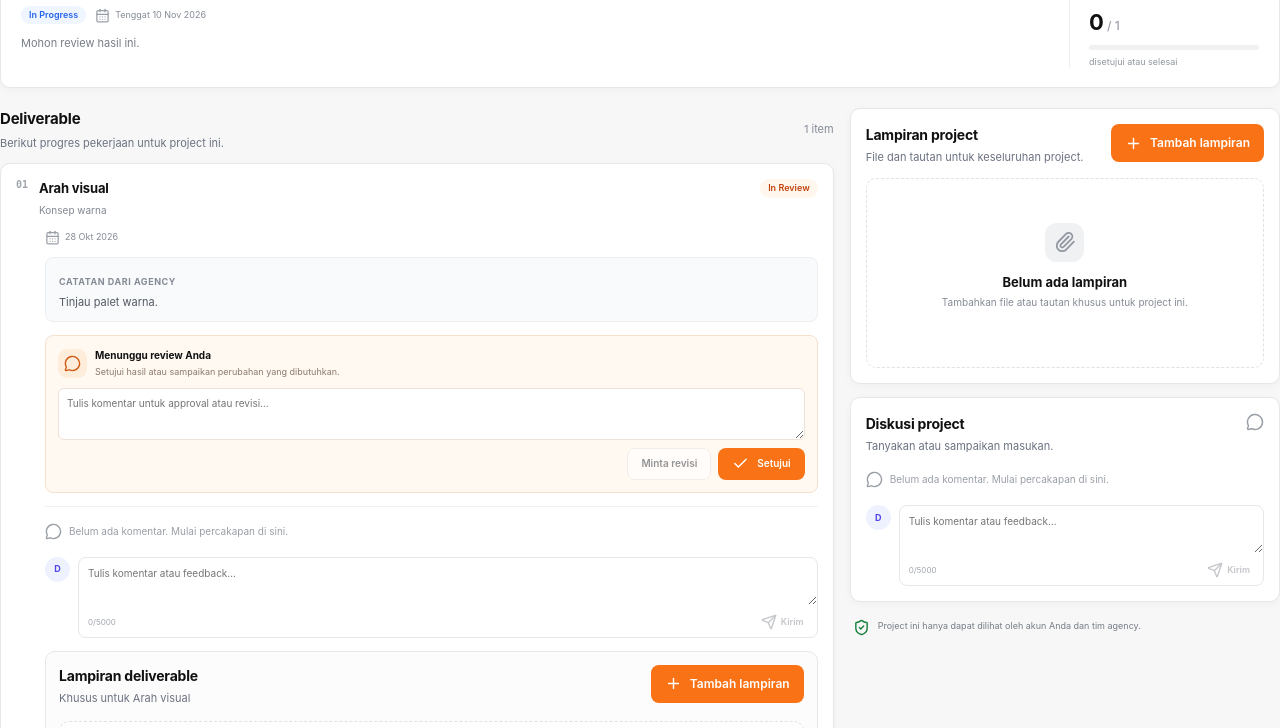
Test: portal UI › requires a revision comment and submits the client review action
Check: the text "Menunggu review Anda" is shown, box [95,349,211,361]
Check: the heading "Lampiran project" is shown, box [866,126,978,143]
Click the button "Tambah lampiran" in the row of "Lampiran deliverable".
click(727, 684)  # box [651,664,804,702]
(page scrolled)
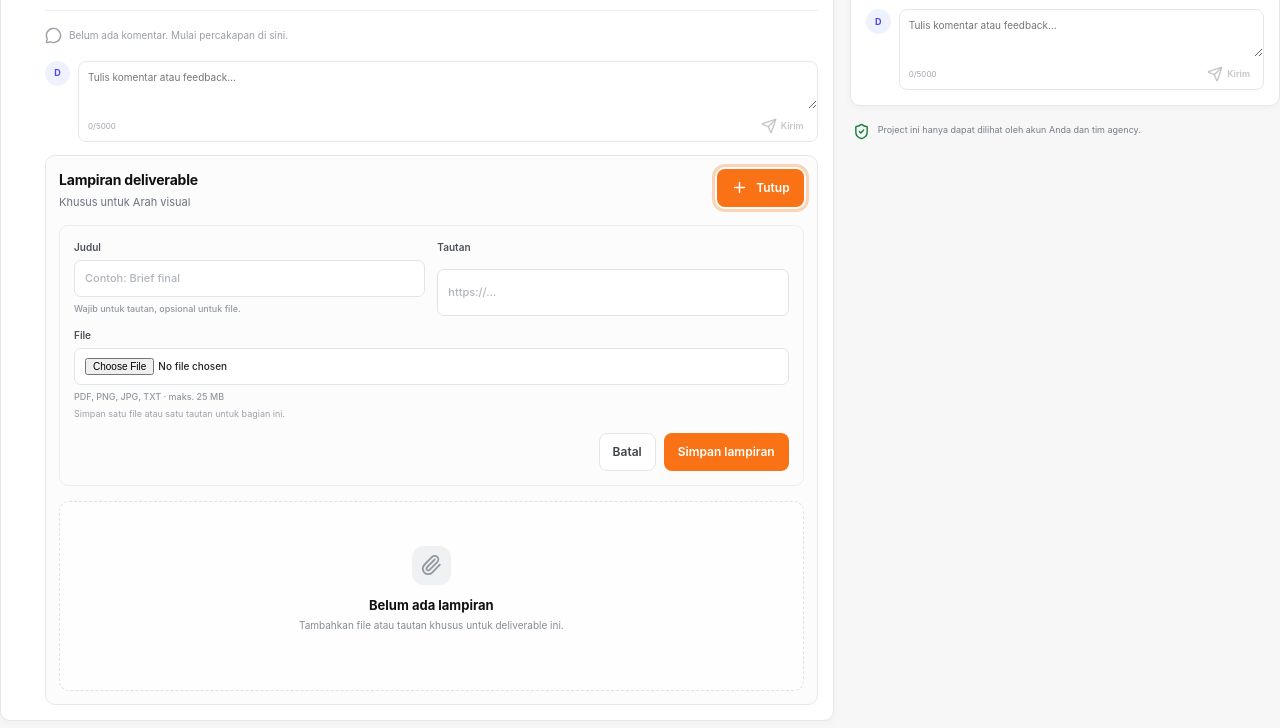
Type "Deliverable source" into the field with placeholder "Contoh: Brief final".
click(250, 278); type("Deliverable source")  # box [74,260,425,297]
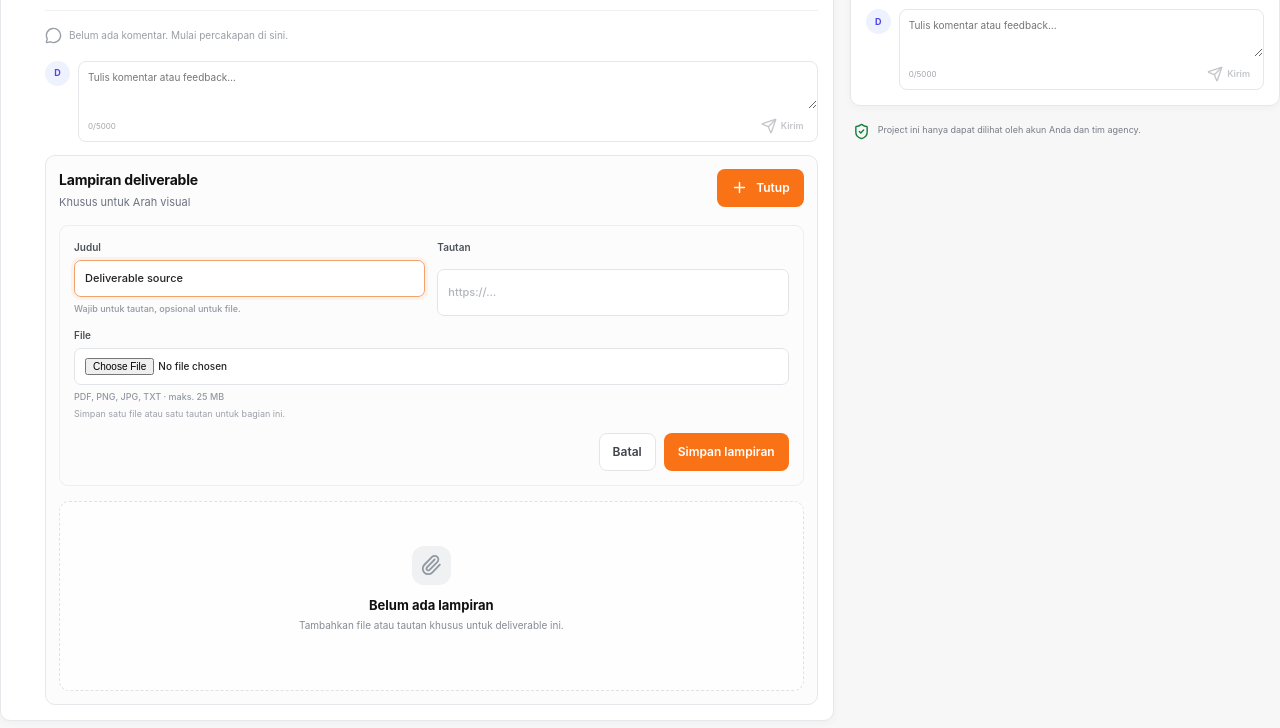
Type "https://example.com/deliverable" into the field with placeholder "https://…".
click(613, 292); type("https://example.com/deliverable")  # box [437,269,789,316]
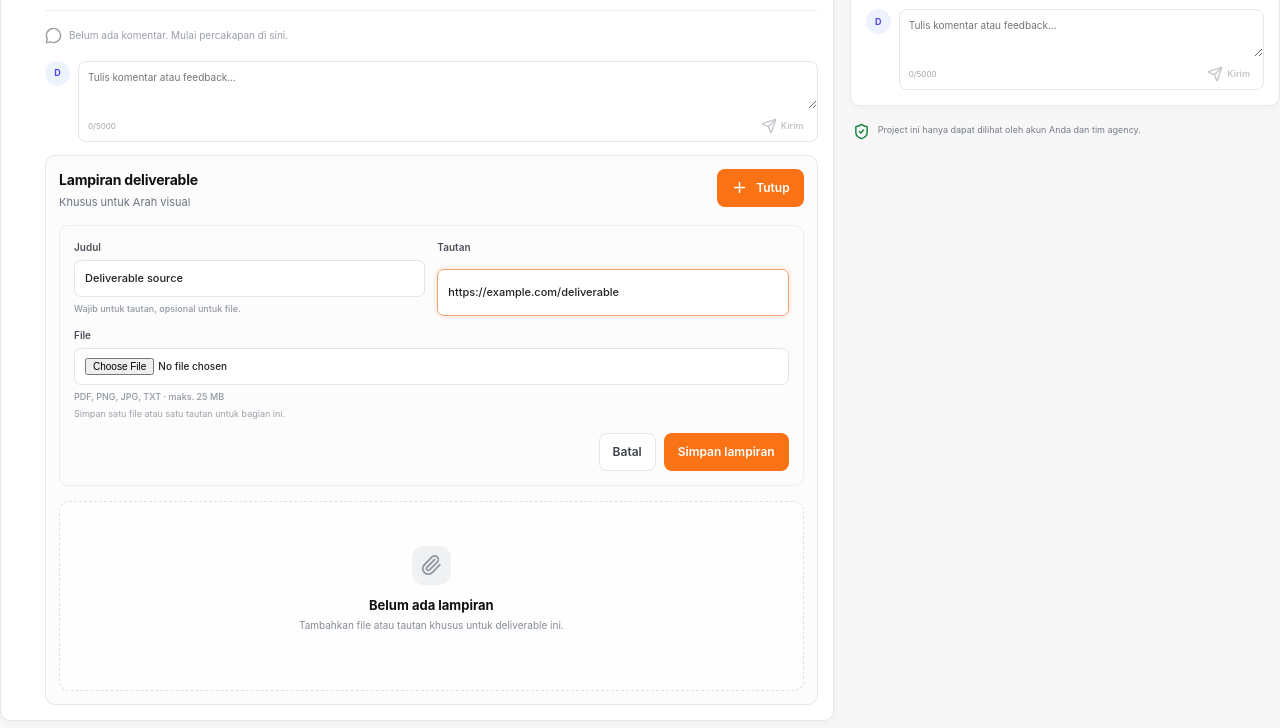
Click the button "Simpan lampiran".
click(726, 452)  # box [664,432,789,470]
(page scrolled)
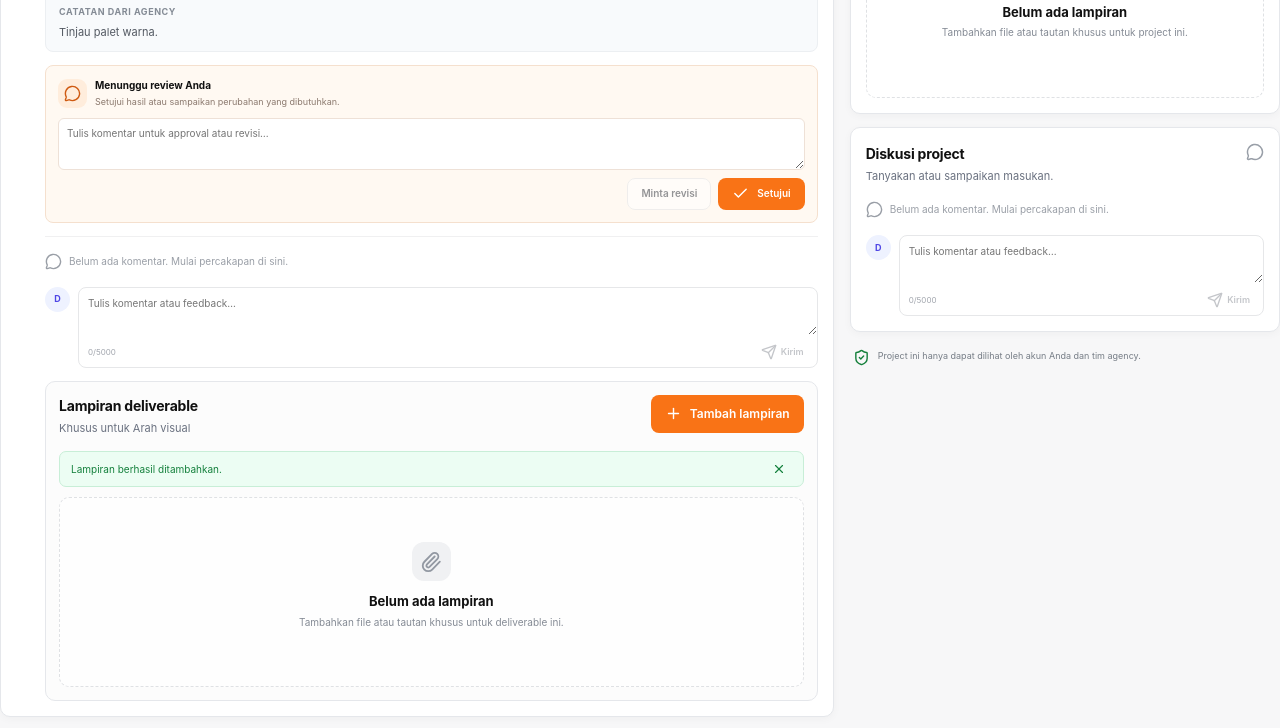
Check: the button "Minta revisi" is disabled, box [627,178,711,210]
Type "Warna perlu lebih hangat." into the text box named "Komentar untuk Arah visual".
click(431, 144); type("Warna perlu lebih hangat.")  # box [58,118,805,170]
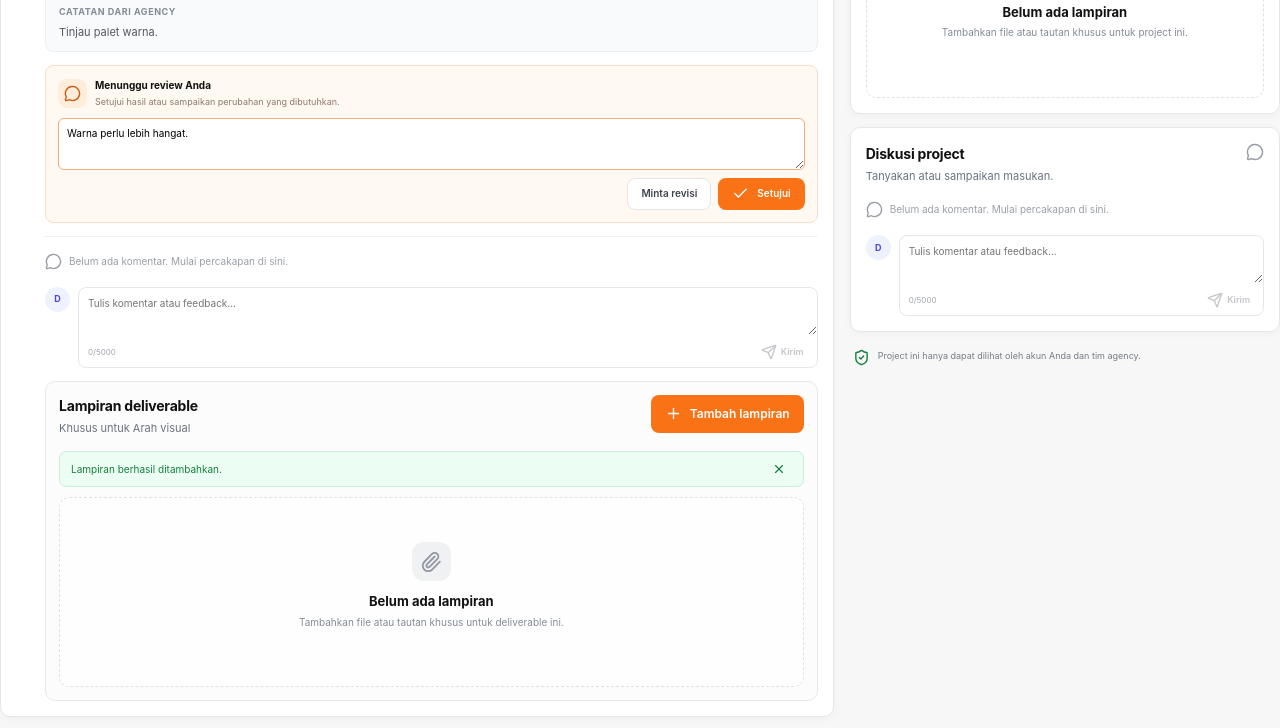
Check: the button "Minta revisi" is enabled
Click the button "Minta revisi".
click(669, 194)  # box [627,178,711,210]
(page scrolled)
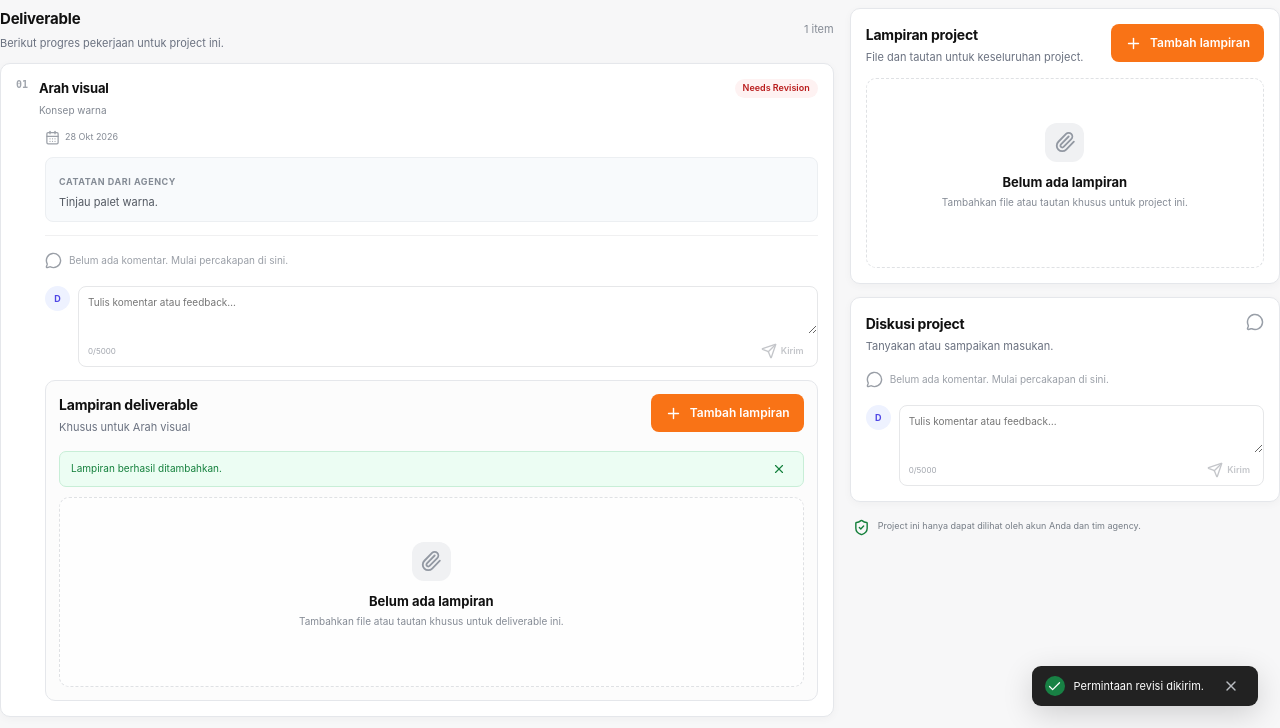
Check: the text "Needs Revision" is shown, box [734,79,818,98]
Check: the text "Menunggu review Anda" is gone
